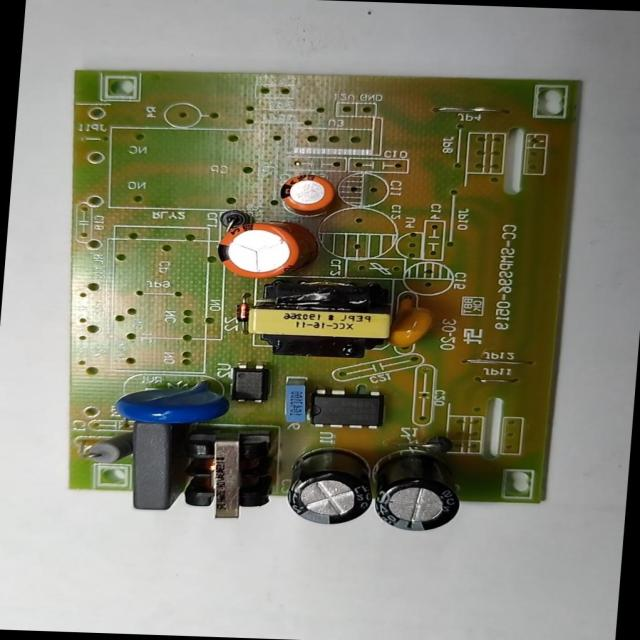Cap1: (210, 220, 314, 279)
Cap2: (276, 174, 334, 213)
Cap3: (282, 450, 377, 528)
Cap4: (366, 446, 466, 534)
MOSFET: (307, 387, 387, 431)
Mov: (115, 374, 233, 426)
Resistor: (81, 430, 137, 467)
Transformer: (239, 280, 395, 360), (175, 425, 277, 522)
